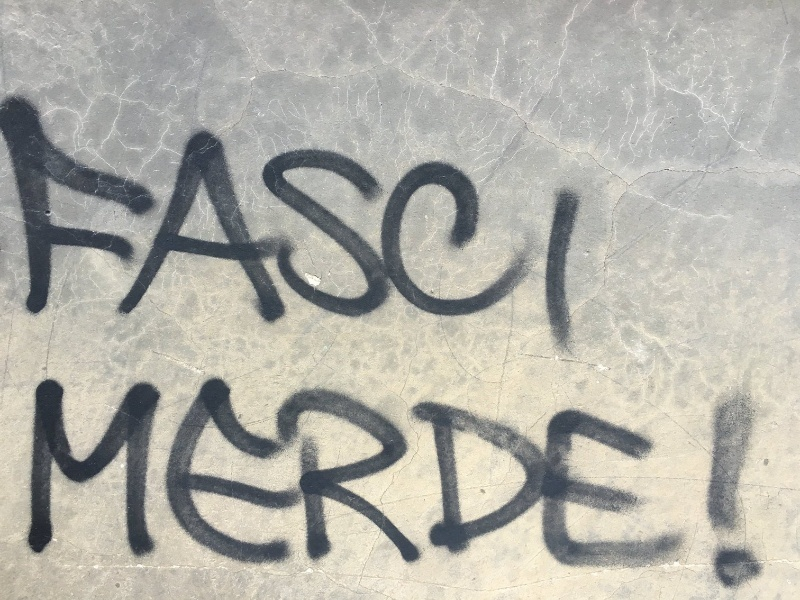text: (1, 95, 16, 353), (17, 95, 32, 353), (33, 95, 48, 353), (49, 95, 64, 353), (65, 95, 80, 353), (81, 95, 96, 353), (97, 95, 112, 353), (113, 95, 128, 353), (129, 95, 144, 353), (145, 95, 160, 353), (161, 95, 176, 353), (177, 95, 192, 353), (193, 95, 208, 353), (209, 95, 224, 353), (225, 95, 240, 353), (241, 95, 256, 353), (257, 95, 272, 353), (273, 95, 288, 353), (289, 95, 304, 353), (305, 95, 320, 353), (321, 95, 336, 353), (337, 95, 352, 353), (353, 95, 368, 353), (369, 95, 384, 353), (385, 95, 400, 353), (401, 95, 416, 353), (417, 95, 432, 353), (433, 95, 448, 353), (449, 95, 464, 353), (465, 95, 480, 353), (481, 95, 496, 353), (497, 95, 512, 353), (513, 95, 528, 353), (529, 95, 544, 353), (545, 95, 560, 353), (561, 95, 576, 353), (49, 374, 64, 589), (65, 374, 80, 589), (81, 374, 96, 589), (97, 374, 112, 589), (113, 374, 128, 589), (129, 374, 144, 589), (145, 374, 160, 589), (161, 374, 176, 589), (177, 374, 192, 589), (193, 374, 208, 589), (209, 374, 224, 589), (225, 374, 240, 589), (241, 374, 256, 589), (257, 374, 272, 589), (273, 374, 288, 589), (289, 374, 304, 589), (305, 374, 320, 589), (321, 374, 336, 589), (337, 374, 352, 589), (353, 374, 368, 589), (369, 374, 384, 589), (385, 374, 400, 589), (401, 374, 416, 589), (417, 374, 432, 589), (433, 374, 448, 589), (449, 374, 464, 589), (465, 374, 480, 589), (481, 374, 496, 589), (497, 374, 512, 589), (513, 374, 528, 589), (529, 374, 544, 589), (545, 374, 560, 589), (561, 374, 576, 589), (577, 374, 592, 589), (593, 374, 608, 589), (609, 374, 624, 589), (625, 374, 640, 589), (641, 374, 656, 589), (657, 374, 672, 589), (673, 374, 688, 589), (689, 374, 704, 589), (705, 374, 720, 589), (721, 374, 736, 589), (737, 374, 752, 589), (35, 374, 48, 589), (753, 374, 763, 589), (577, 95, 582, 353)
